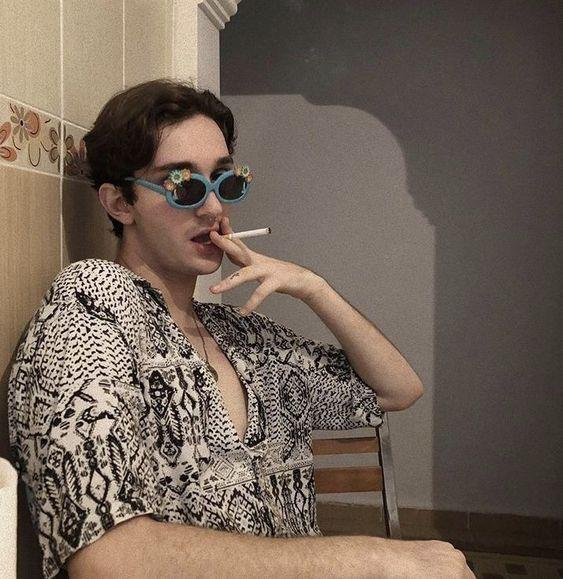cigarette: (220, 227, 272, 240)
